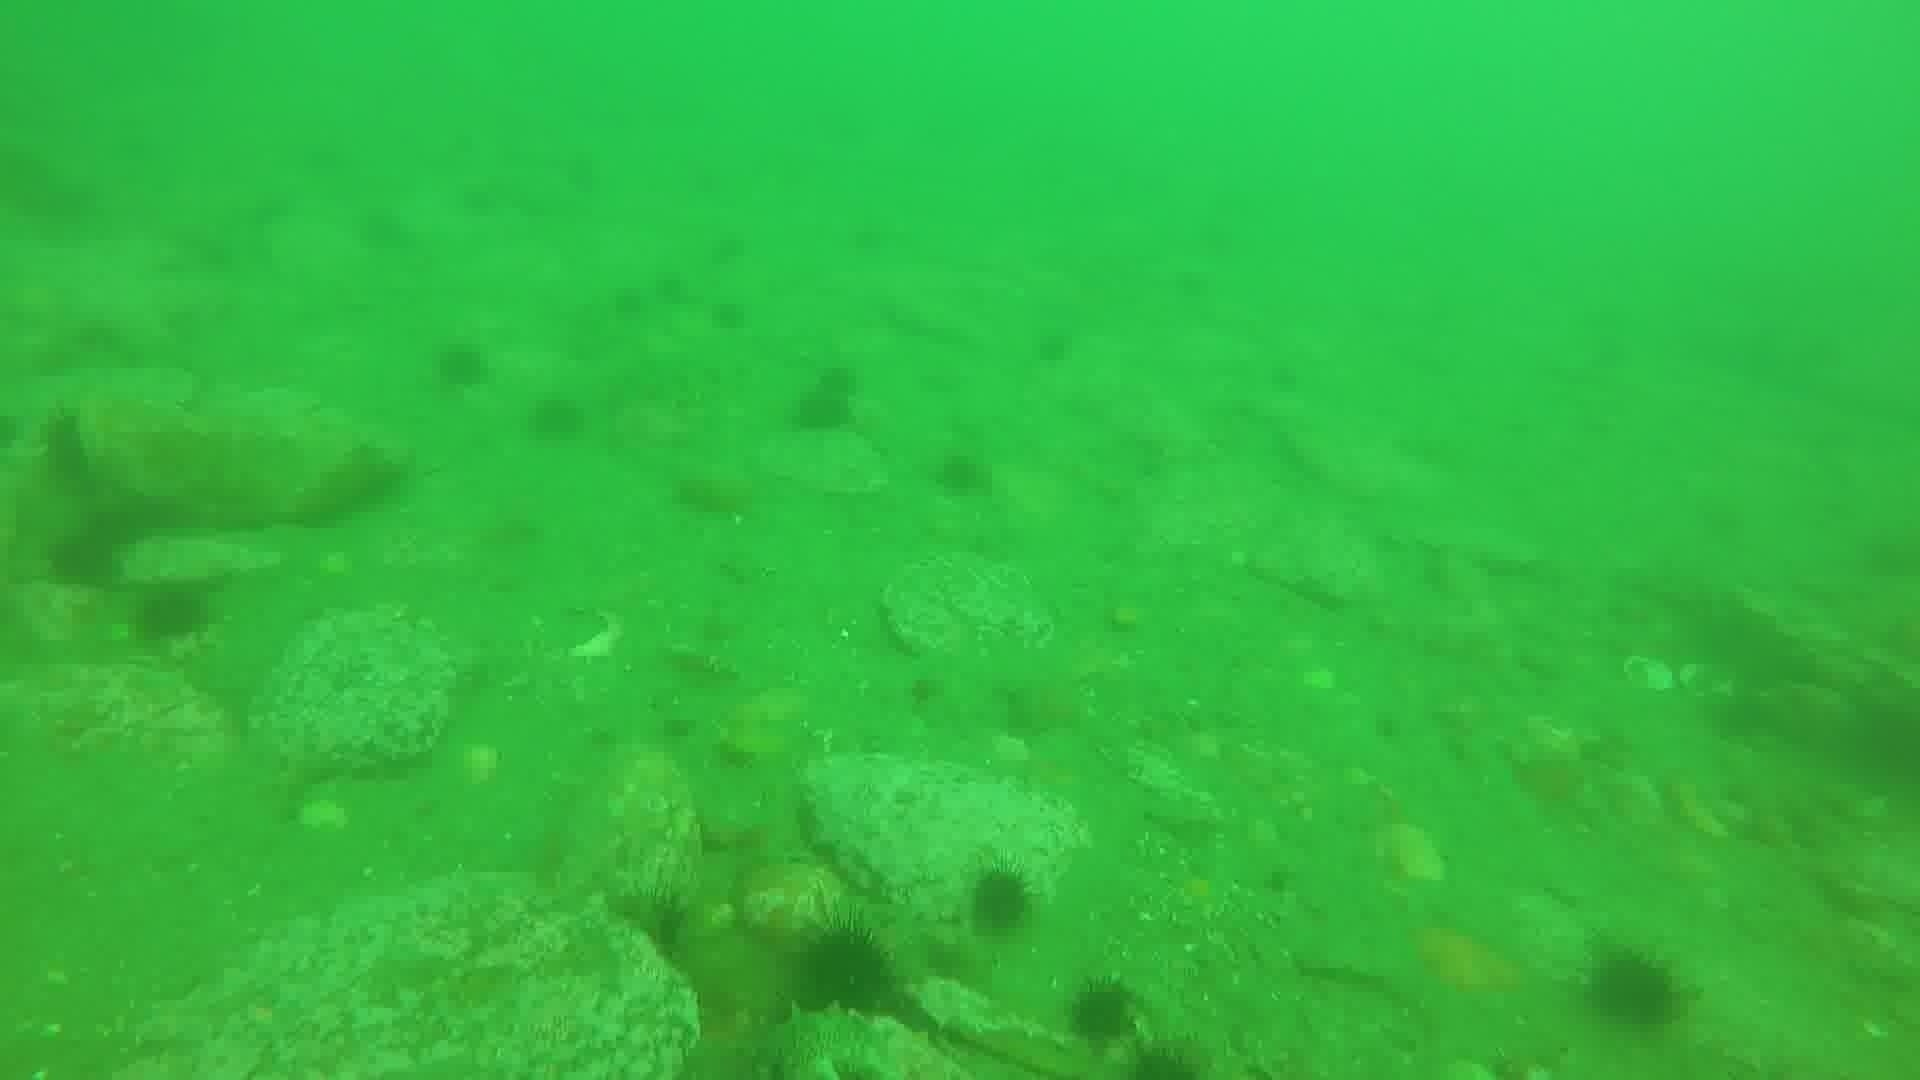echinus: (786, 918, 899, 1023), (603, 880, 700, 973), (1582, 947, 1687, 1033), (128, 578, 216, 650), (1063, 977, 1145, 1050), (963, 862, 1039, 939), (42, 524, 125, 593), (34, 406, 99, 492), (1118, 1030, 1218, 1079), (429, 338, 493, 396), (524, 392, 589, 447), (930, 447, 996, 502), (787, 394, 851, 439), (1029, 324, 1077, 369), (705, 295, 752, 335), (816, 365, 858, 393), (611, 285, 644, 318), (711, 244, 742, 270), (857, 228, 890, 252), (658, 280, 687, 305), (1183, 278, 1208, 298)
